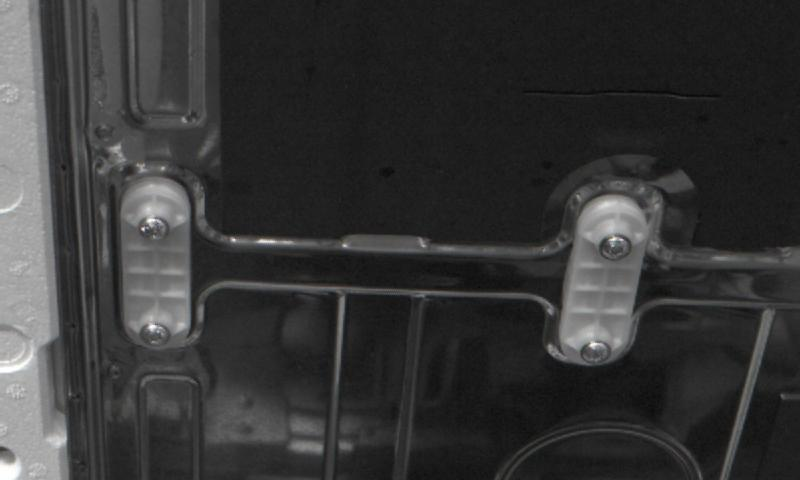vida-ok: (596, 229, 640, 268), (578, 334, 618, 376), (135, 213, 174, 252), (136, 319, 174, 354)
